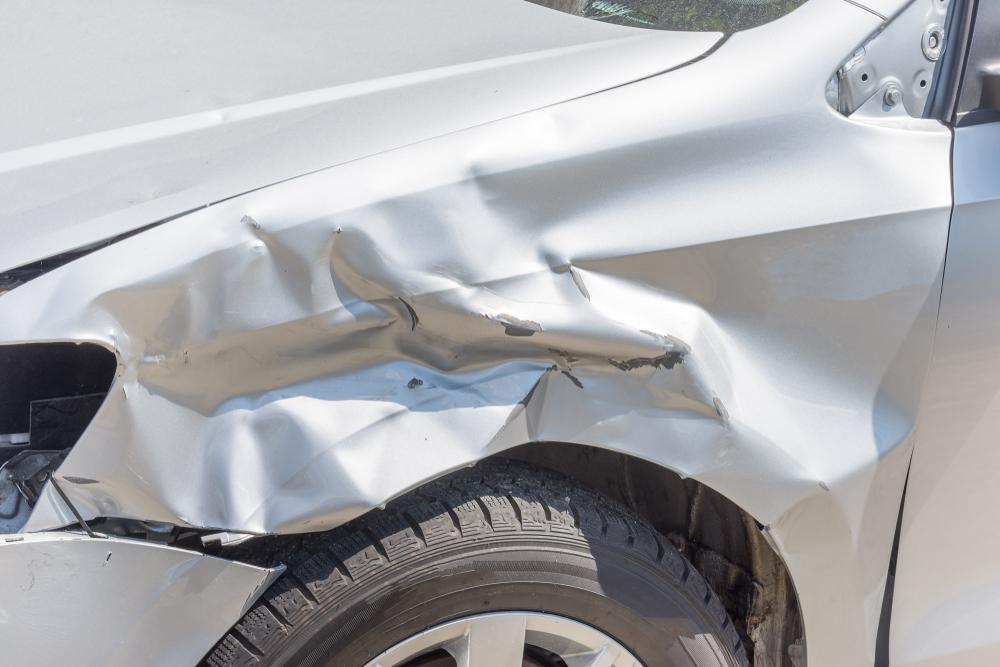dent: (34, 143, 944, 578)
